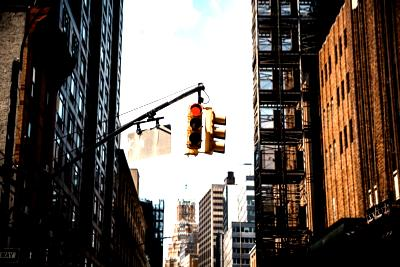International Road Signal Light: (205, 107, 226, 154), (186, 104, 203, 152)
